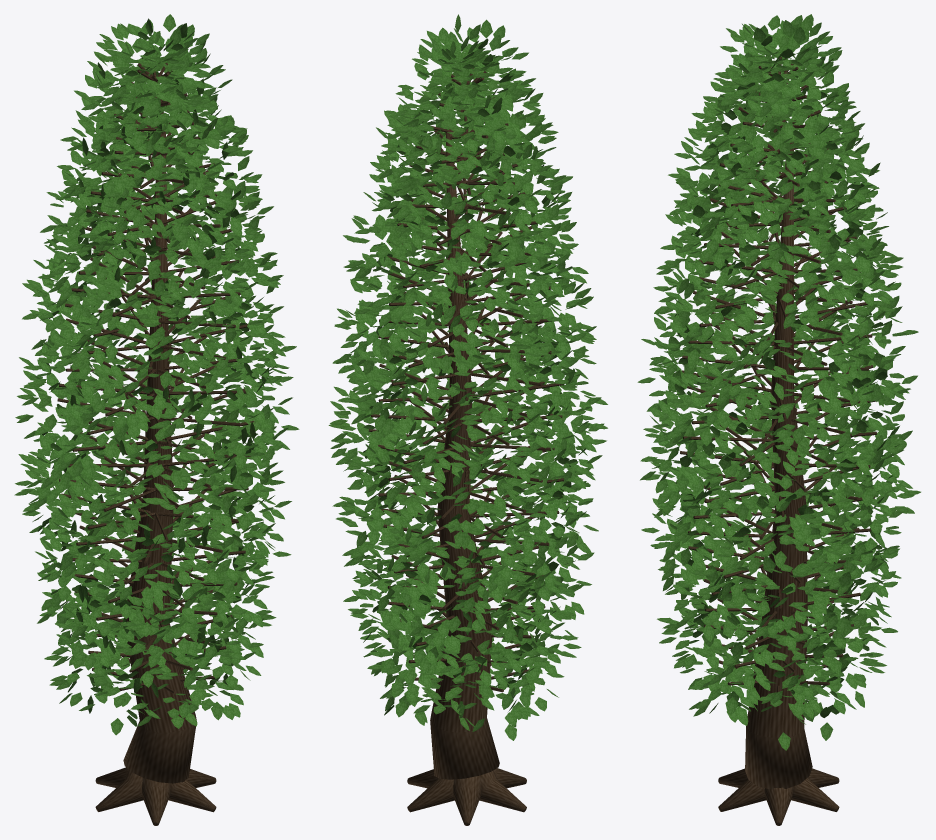
Rendered from cypress_tree.glb.
3 renders of one model, left to right at view 1: azimuth 30°, elevation 25°; view 2: azimuth 150°, elevation 25°; view 3: azimuth 270°, elevation 25°, orthographic.
Parts seen in each view (by area): view 1: cypress_tree_Foliage.001, cypress_tree_Branches.001; view 2: cypress_tree_Foliage.001, cypress_tree_Branches.001; view 3: cypress_tree_Foliage.001, cypress_tree_Branches.001.
Part boxes in pixels (x1,y1,x2,y2): cypress_tree_Foliage.001: (14,14,299,735); cypress_tree_Branches.001: (57,63,254,825); cypress_tree_Foliage.001: (328,14,607,740); cypress_tree_Branches.001: (368,68,564,825); cypress_tree_Foliage.001: (637,14,920,750); cypress_tree_Branches.001: (680,57,876,825).
Size of the model in its own units: 2.34 by 7.11 by 2.35.
Materials: 2 (2 with a texture image).
